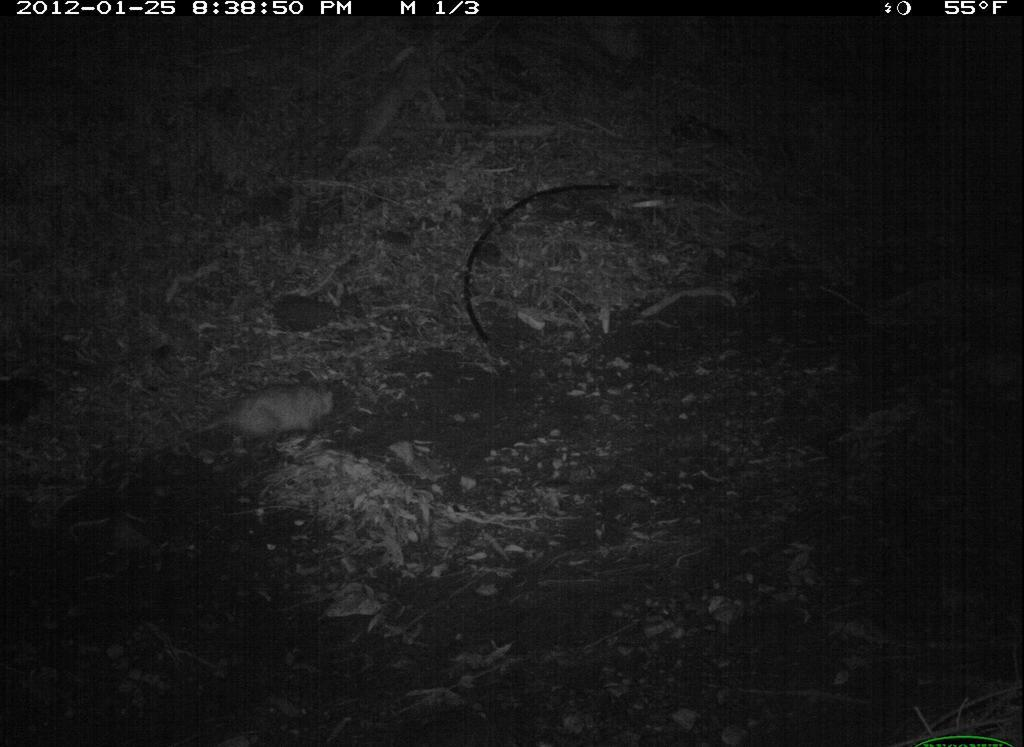opossum: (177, 370, 355, 459)
